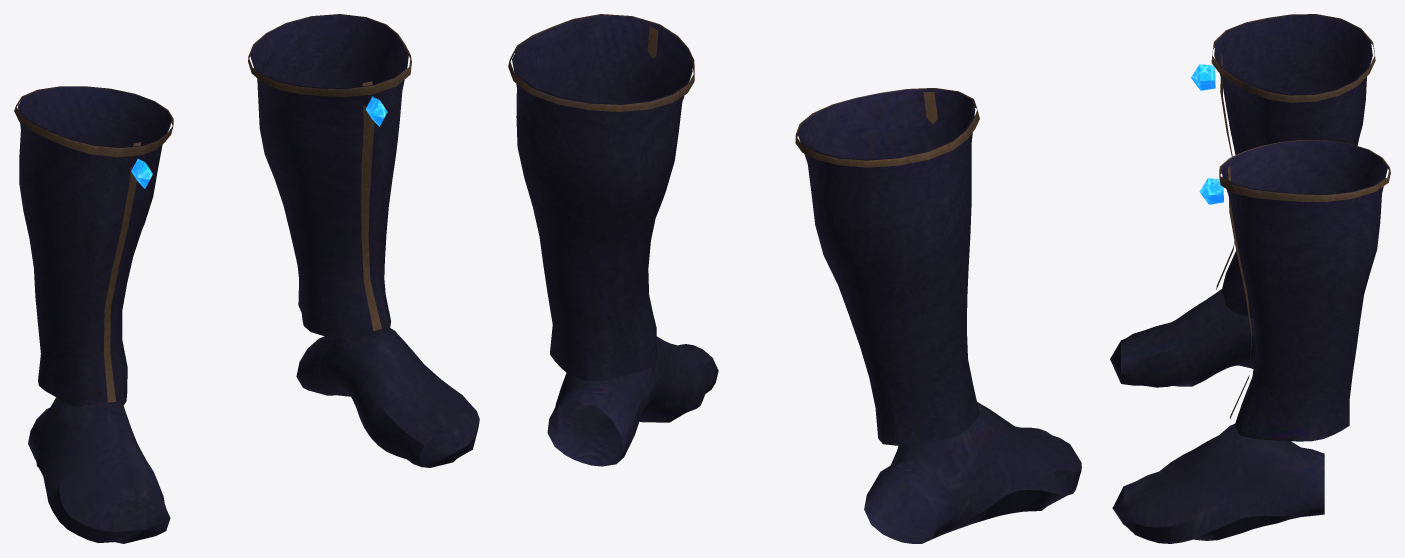
File: Botas_de_Tecido_nivel100.glb
The picture shows the model from 3 angles, left to right: view 1: azimuth 30°, elevation 25°; view 2: azimuth 150°, elevation 25°; view 3: azimuth 270°, elevation 25°; orthographic projection. The views are drawn at different scales.
Parts seen in each view (by area): view 1: botas_de_tecido_nivel100; view 2: botas_de_tecido_nivel100; view 3: botas_de_tecido_nivel100.
Boxes of the visible parts, x1,y1,x2,y2 form: botas_de_tecido_nivel100: (14,14,479,543); botas_de_tecido_nivel100: (508,14,1081,543); botas_de_tecido_nivel100: (1110,14,1390,543).
Bounding box in the file's own units: 0.5105 × 0.4204 × 0.3054.
Materials: 1 (1 with a texture image).
